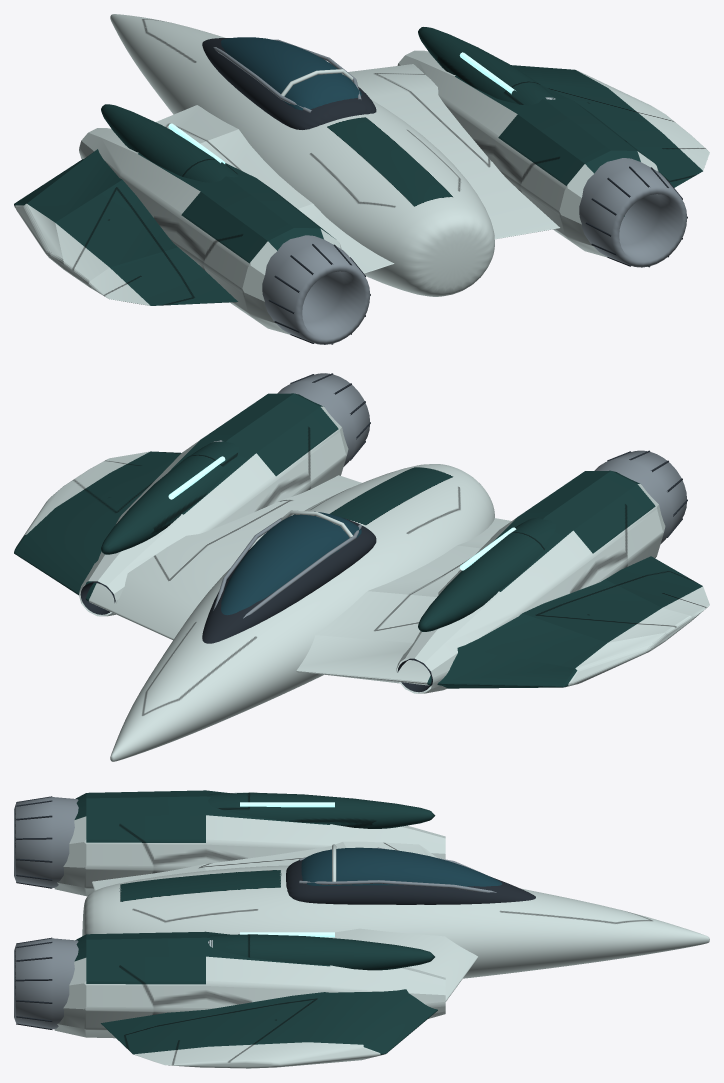
The picture shows the model from 3 angles, top to bottom: view 1: azimuth 30°, elevation 25°; view 2: azimuth 150°, elevation 25°; view 3: azimuth 270°, elevation 25°; orthographic projection. The views are drawn at different scales.
Parts seen in each view (by area): view 1: CircuitTapV2; view 2: CircuitTapV2; view 3: CircuitTapV2.
Part boxes in pixels (x1,y1,x2,y2): CircuitTapV2: (14, 14, 709, 344); CircuitTapV2: (14, 373, 709, 761); CircuitTapV2: (14, 790, 709, 1068).
Size of the model in its own units: 2.82 by 0.6313 by 3.08.
6 materials, 2 textured.
